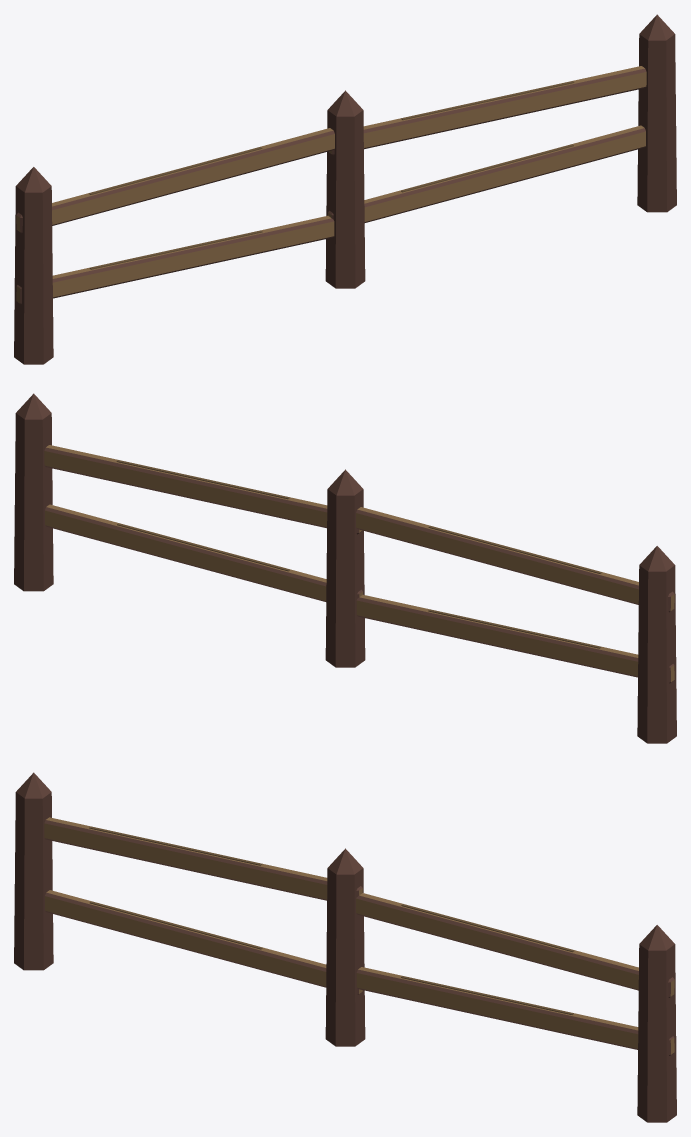
Rendered from woodFence.glb.
The picture shows the model from 3 angles, top to bottom: view 1: azimuth 30°, elevation 25°; view 2: azimuth 150°, elevation 25°; view 3: azimuth 330°, elevation 25°; orthographic projection.
Parts seen in each view (by area): view 1: woodFence-m; view 2: woodFence-m; view 3: woodFence-m.
Part boxes in pixels (bbox=[...]): woodFence-m: bbox=[14, 14, 676, 364]; woodFence-m: bbox=[14, 393, 676, 743]; woodFence-m: bbox=[14, 772, 676, 1122].
Bounding box in the file's own units: 4.2 × 1.17 × 0.22.
